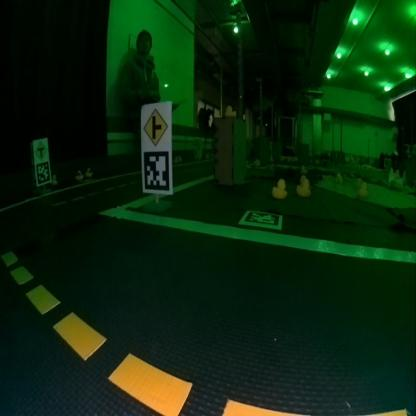Duckie: (273, 178, 286, 198), (298, 179, 308, 194), (358, 182, 366, 196), (224, 106, 234, 114), (336, 172, 342, 180), (52, 174, 57, 183), (75, 171, 82, 177), (85, 167, 91, 174)
Intersection sign: (142, 106, 168, 146), (34, 140, 47, 160)
QR code: (142, 151, 170, 190), (239, 209, 282, 229), (36, 163, 50, 184)
